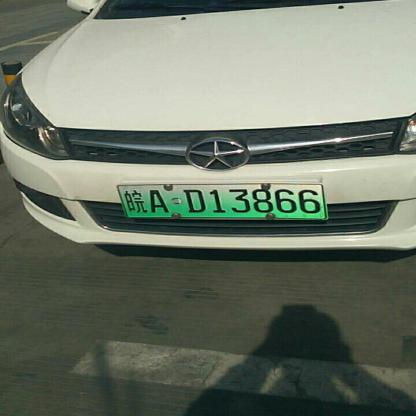lp: (118, 183, 326, 218)
